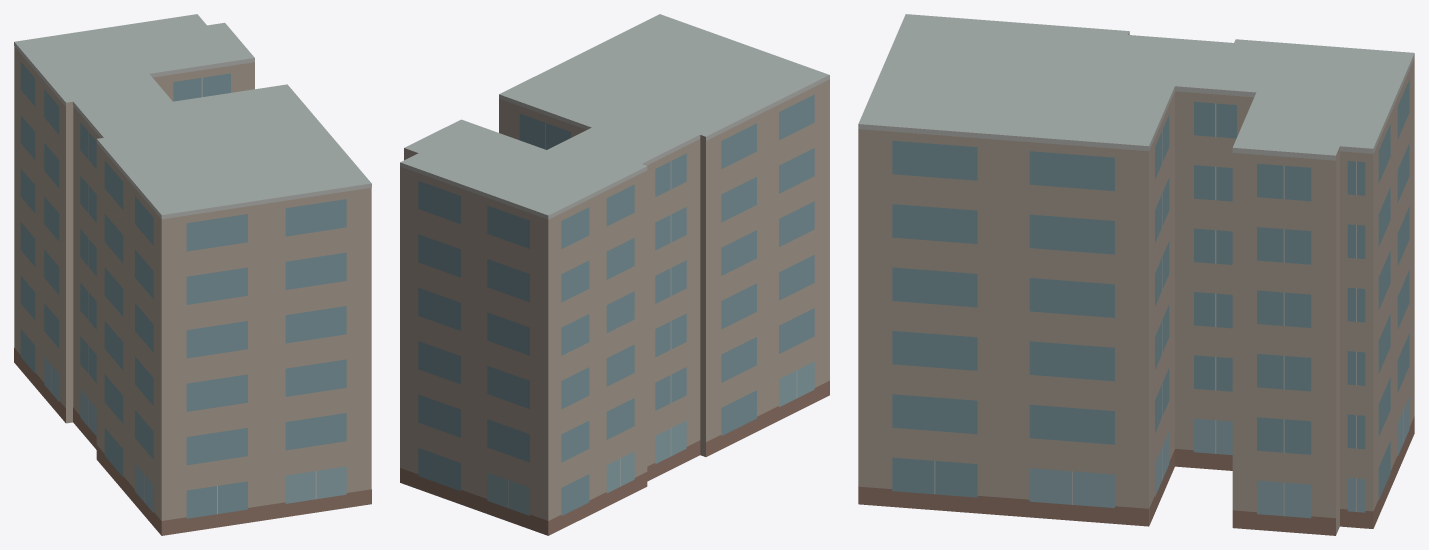
The model's file is survey-upis-32664657.glb.
3 views of the same model, side by side, from view 1: azimuth 30°, elevation 25°; view 2: azimuth 150°, elevation 25°; view 3: azimuth 270°, elevation 25° (orthographic). The views are drawn at different scales.
Visible parts, largest first — view 1: survey-upis-32664657.tmp; view 2: survey-upis-32664657.tmp; view 3: survey-upis-32664657.tmp.
Boxes of the visible parts, box(x1,y1,x2,y2) form: survey-upis-32664657.tmp: box(14, 14, 371, 535); survey-upis-32664657.tmp: box(400, 14, 829, 535); survey-upis-32664657.tmp: box(858, 14, 1414, 535).
Bounding box in the file's own units: 14.86 × 18.6 × 24.67.
